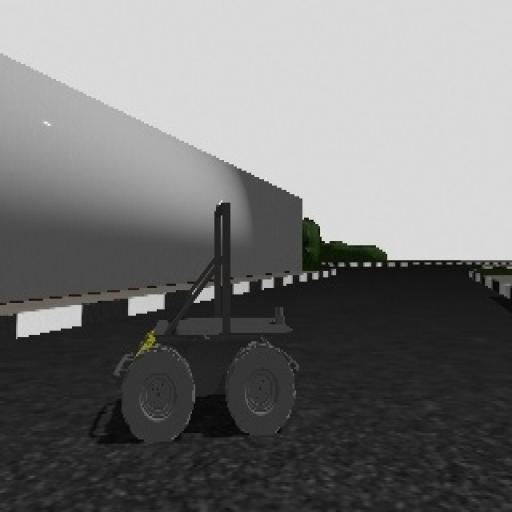huskya200: (106, 164, 306, 472)
